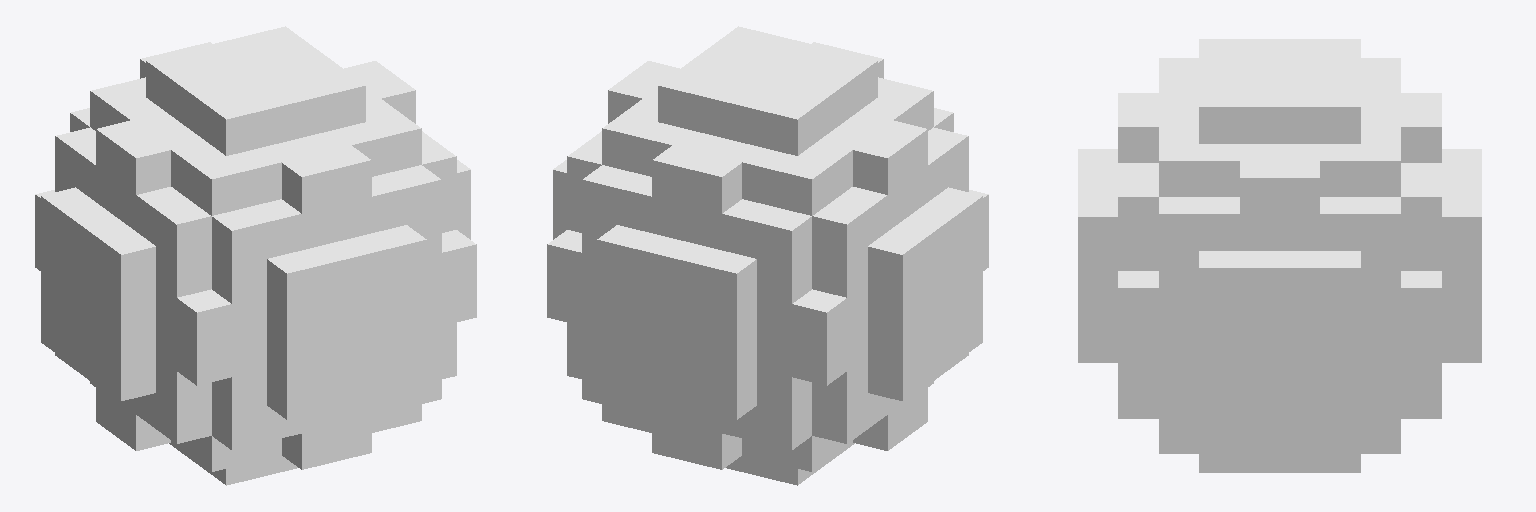
File: Title-0.obj
3 views of the same model, side by side, from view 1: azimuth 30°, elevation 25°; view 2: azimuth 150°, elevation 25°; view 3: azimuth 270°, elevation 25° (orthographic).
Parts seen in each view (by area): view 1: object 1; view 2: object 1; view 3: object 1.
Part boxes in pixels (x1,y1,x2,y2): object 1: (35,26,476,485); object 1: (547,26,988,485); object 1: (1078,39,1481,472).
Size of the model in its own units: 1 by 1 by 1.